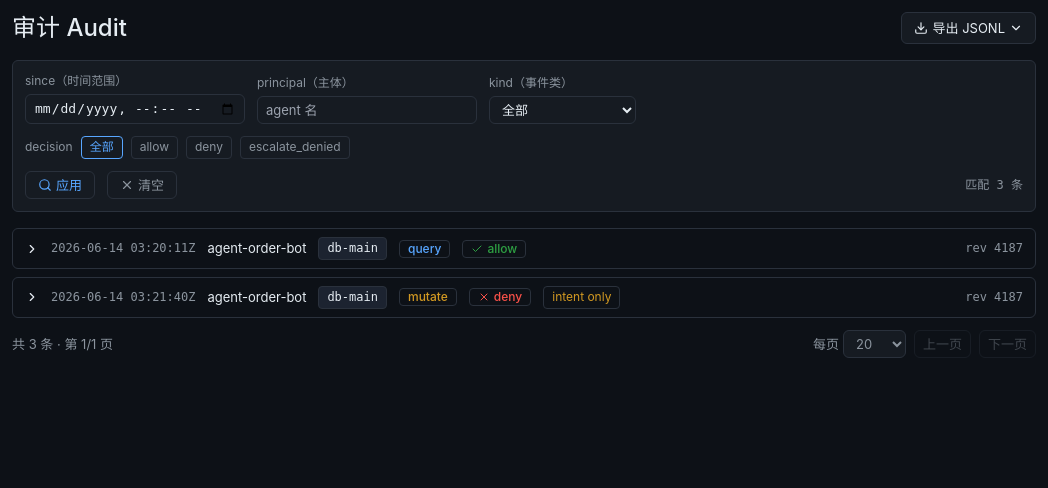
Test: AuditPage — 契约: 雪花 id 不丢精度 / deny 不泄存在性 / 两阶段诚实 › a deny row shows stage + verbatim reason but only an anonymized resource code (no real address / no scope leak)
Expected: the text "deny" is shown, x1=469 y1=288 x2=531 y2=306
Click the button that starts with "2026-06-14 03:21:40Z": (524, 297) x1=13 y1=278 x2=1035 y2=317
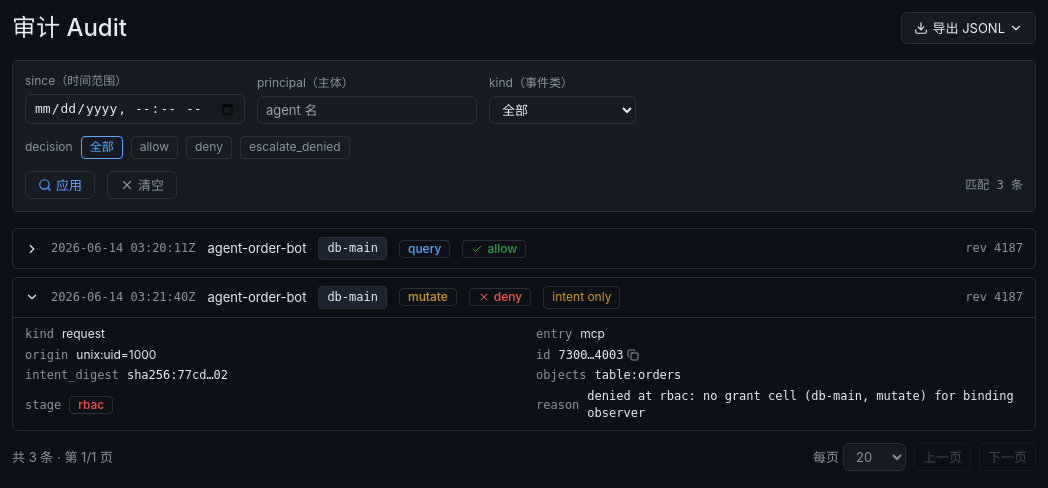
Expected: the 2nd text "db-main" is shown, x1=318 y1=286 x2=387 y2=309
Now the text "denied at rbac: no grant cell (db-main, mutate) for binding observer" is shown, box x1=587 y1=388 x2=1023 y2=422
